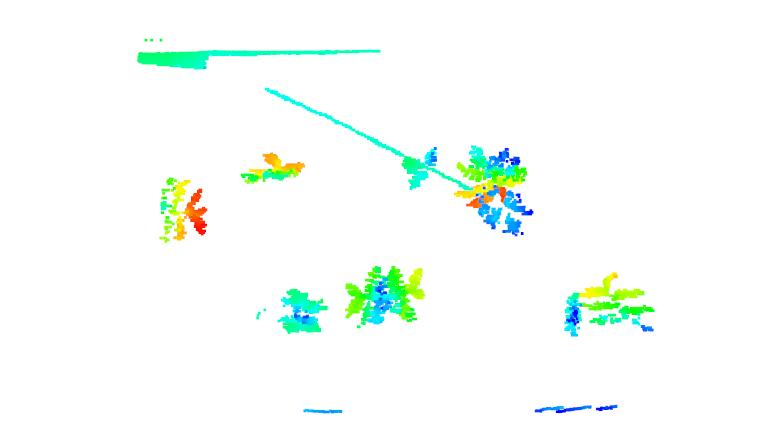chickpea: (462, 145, 534, 238), (564, 270, 659, 340), (339, 260, 425, 327), (158, 169, 210, 245), (239, 150, 308, 187), (397, 143, 444, 193), (280, 289, 329, 334)
